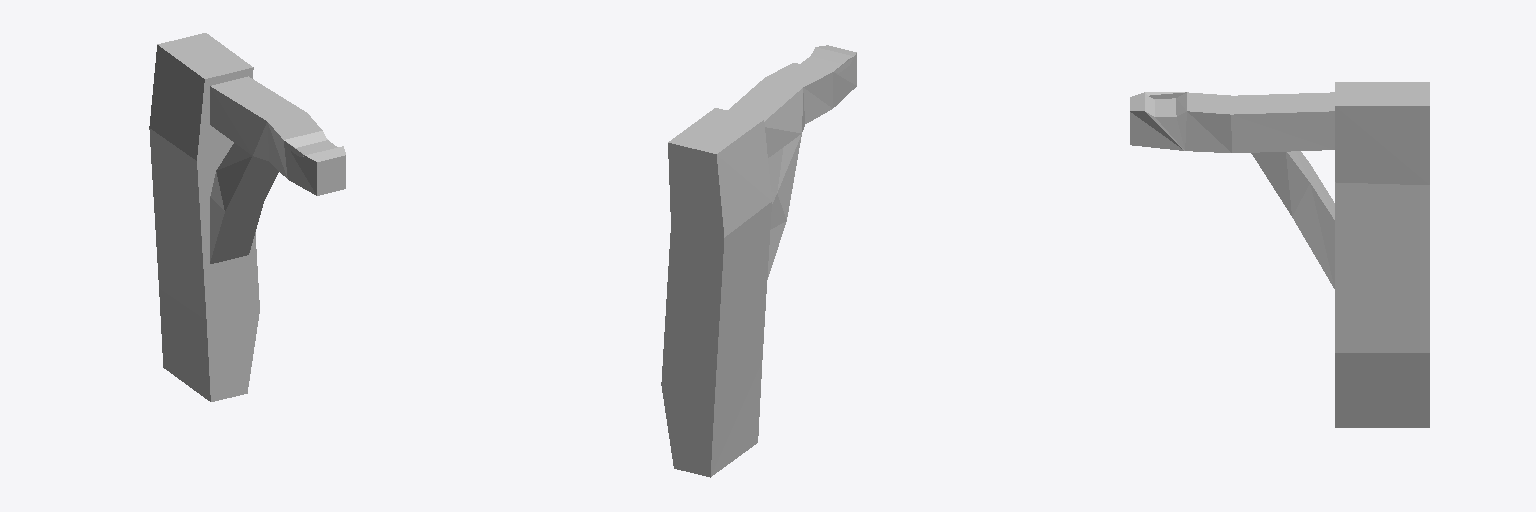
File: LanternStand.obj
The picture shows the model from 3 angles: view 1: azimuth 30°, elevation 25°; view 2: azimuth 150°, elevation 25°; view 3: azimuth 270°, elevation 25°; orthographic projection.
Visible parts, largest first — view 1: Lantern_Holder_Cube.023; view 2: Lantern_Holder_Cube.023; view 3: Lantern_Holder_Cube.023.
Boxes of the visible parts, box(x1,y1,x2,y2) form: Lantern_Holder_Cube.023: box(149, 33, 345, 401); Lantern_Holder_Cube.023: box(661, 45, 856, 477); Lantern_Holder_Cube.023: box(1130, 82, 1429, 427).
Size of the model in its own units: 0.4073 by 2 by 1.68.